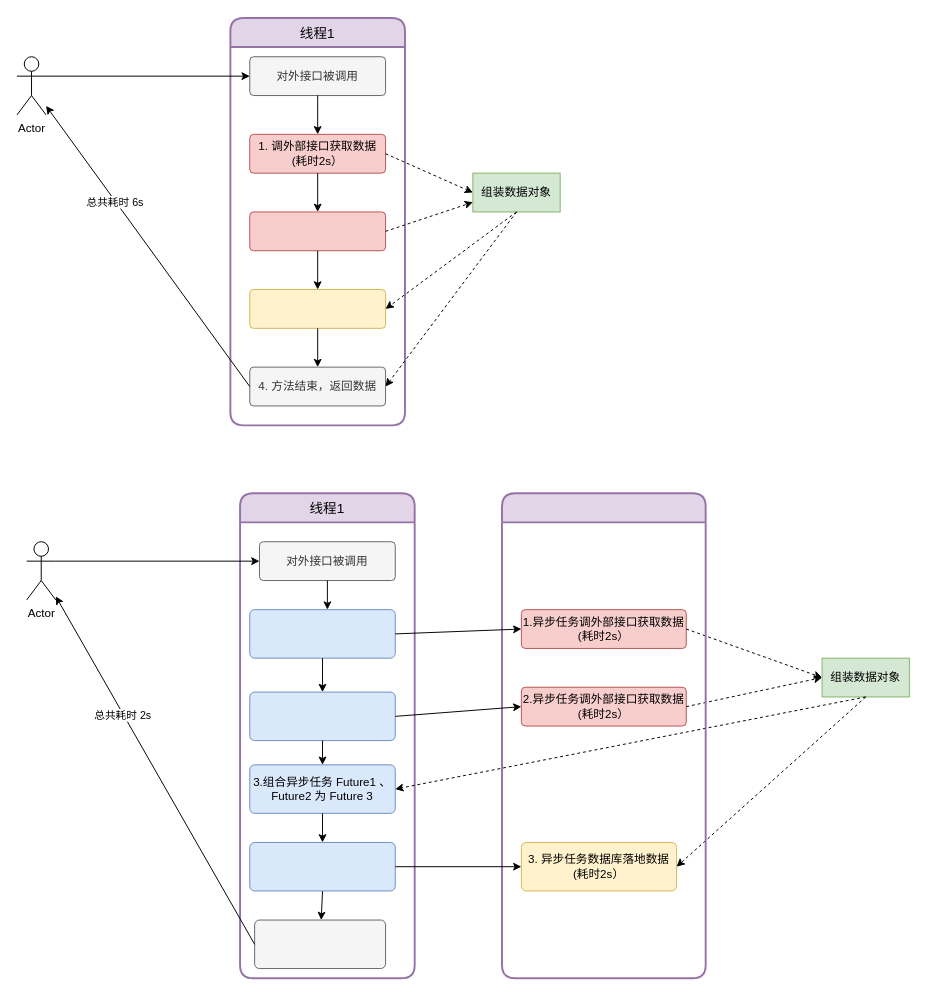
Some shapes in this 926 by 995 pixel diagram are drawn without their labels. Each missing label, with the centre of its shape:
"1.提交异步任务 Future1" goes at pixel 322 633.
"2. 调外部接口获取数据 (耗时2s）" goes at pixel 317 231.
"2.提交异步任务 Future2" goes at pixel 322 716.
"3. 数据库落地数据 (耗时2s）" goes at pixel 317 308.
"4.提交依赖 Future3 的异步任务落地更新后的数据" goes at pixel 322 866.
"5. 方法结束，使用Future3 获取数据返回 (耗时2s)" goes at pixel 320 944.
"线程池" goes at pixel 603 735.
